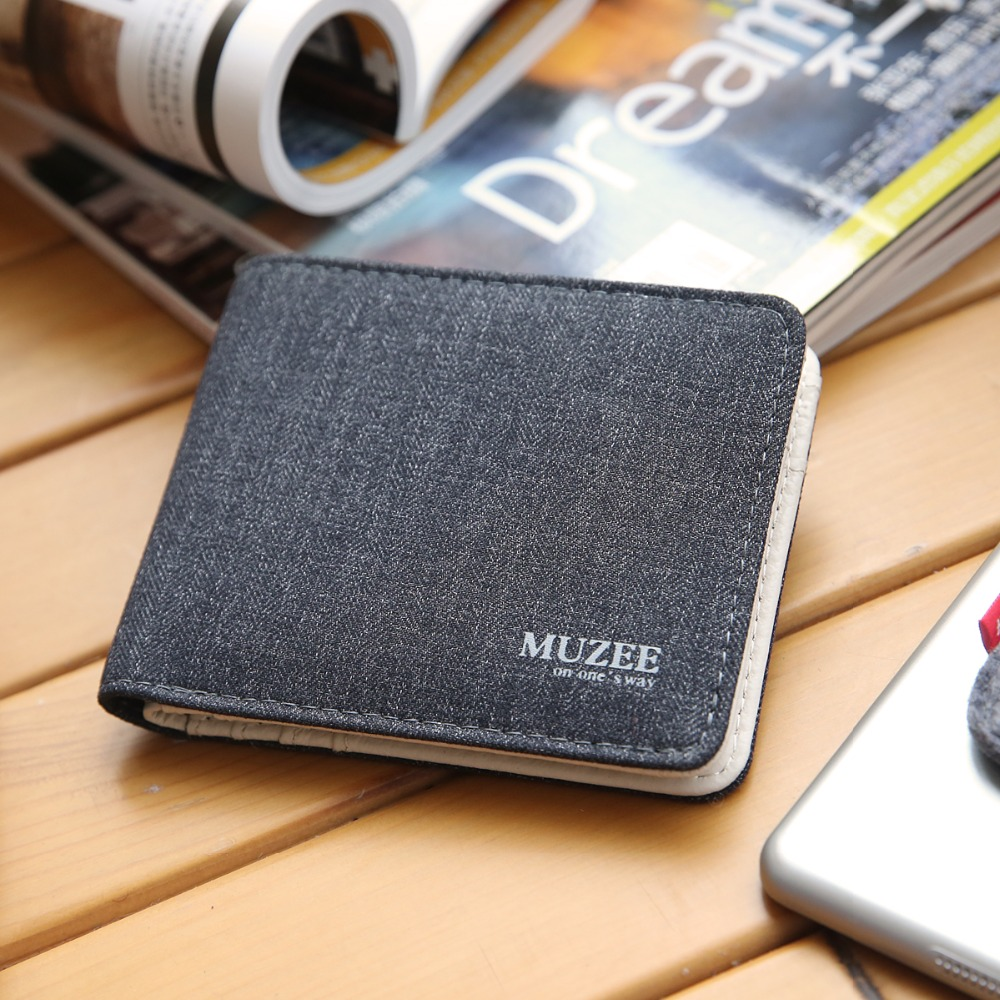monedero: (100, 257, 823, 795)
